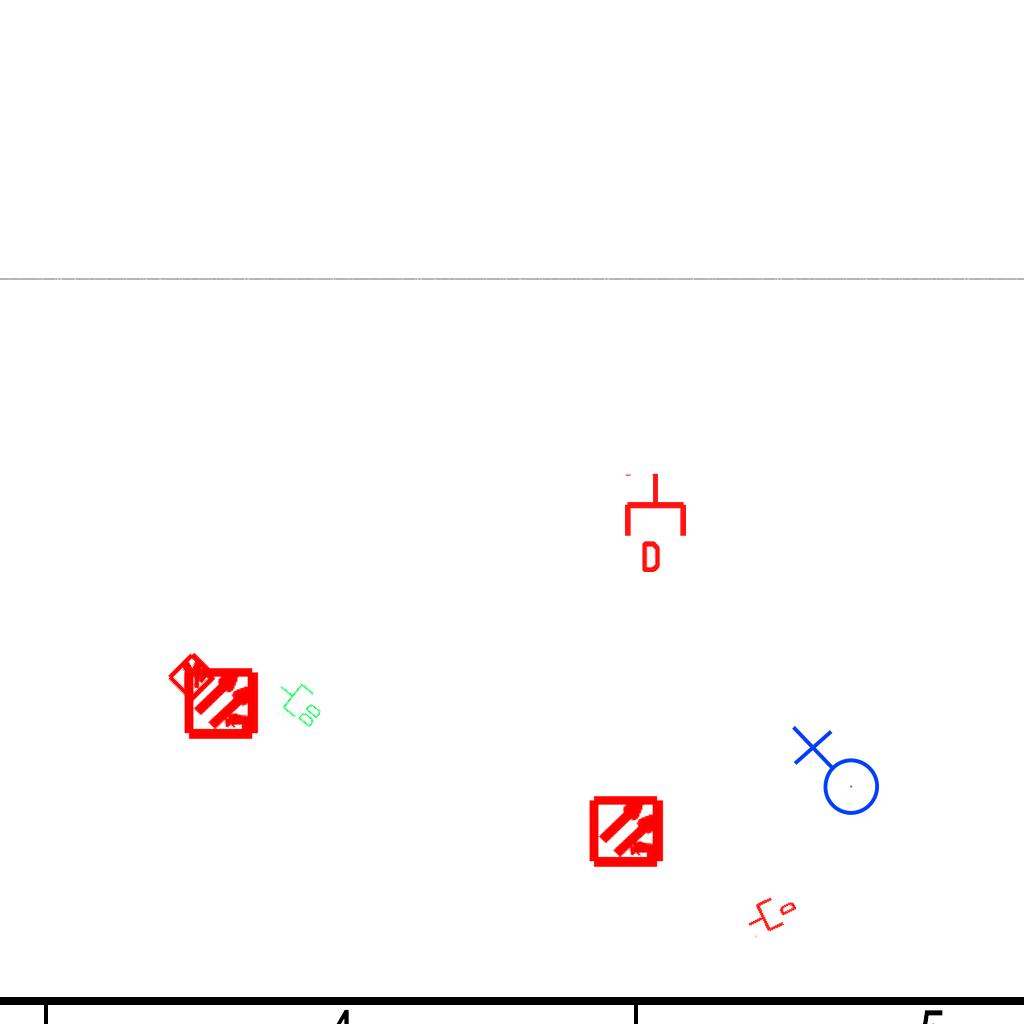Datenanschluss_einfach: (621, 472, 690, 572), (741, 887, 801, 941)
Datenanschluss_zweifach: (268, 672, 331, 732)
Elektroanschluss_allgemein_230V_Geraeteanschlussdose_230V: (787, 725, 881, 824)
OT_Multisensormelder_(Kombination_RMO_WMD): (572, 775, 685, 888), (167, 647, 280, 760), (153, 636, 233, 716)
